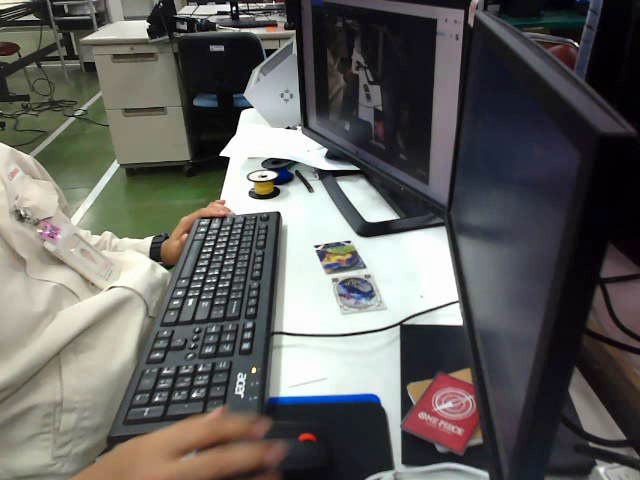can: (327, 271, 386, 313), (305, 235, 368, 271)
